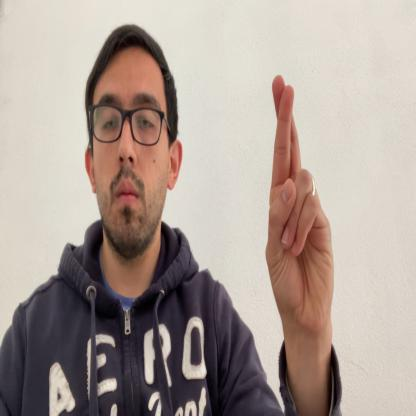R: (264, 74, 335, 332)
